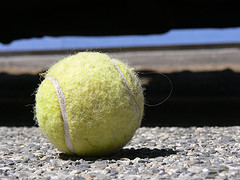tennis ball: (34, 47, 147, 157)
